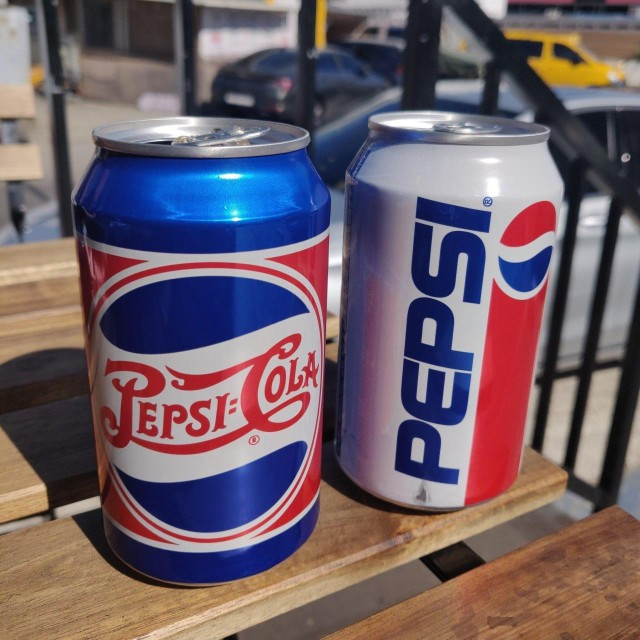pepsi: (495, 197, 569, 294)
